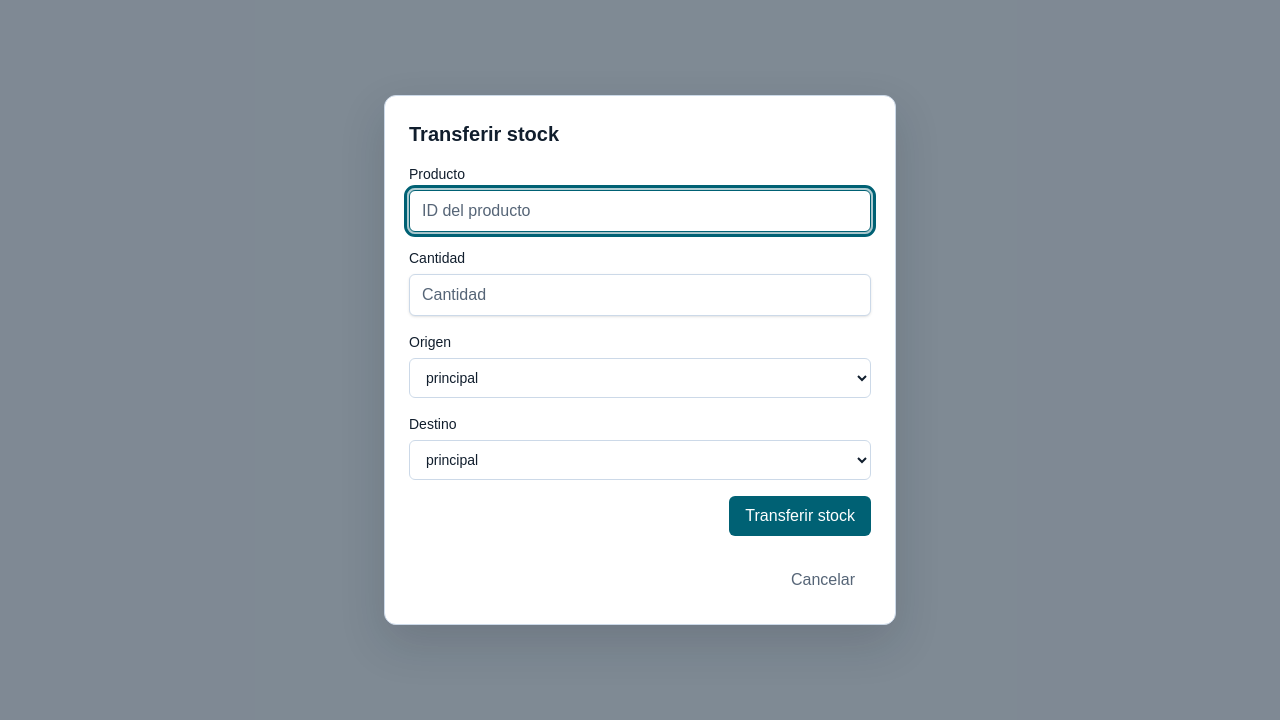
Test: StockTransferModal › rejects same-deposito with domain validation before posting
Type "p_1" into the field labelled "Producto".
click(640, 211); type("p_1")  # box [409,190,871,232]
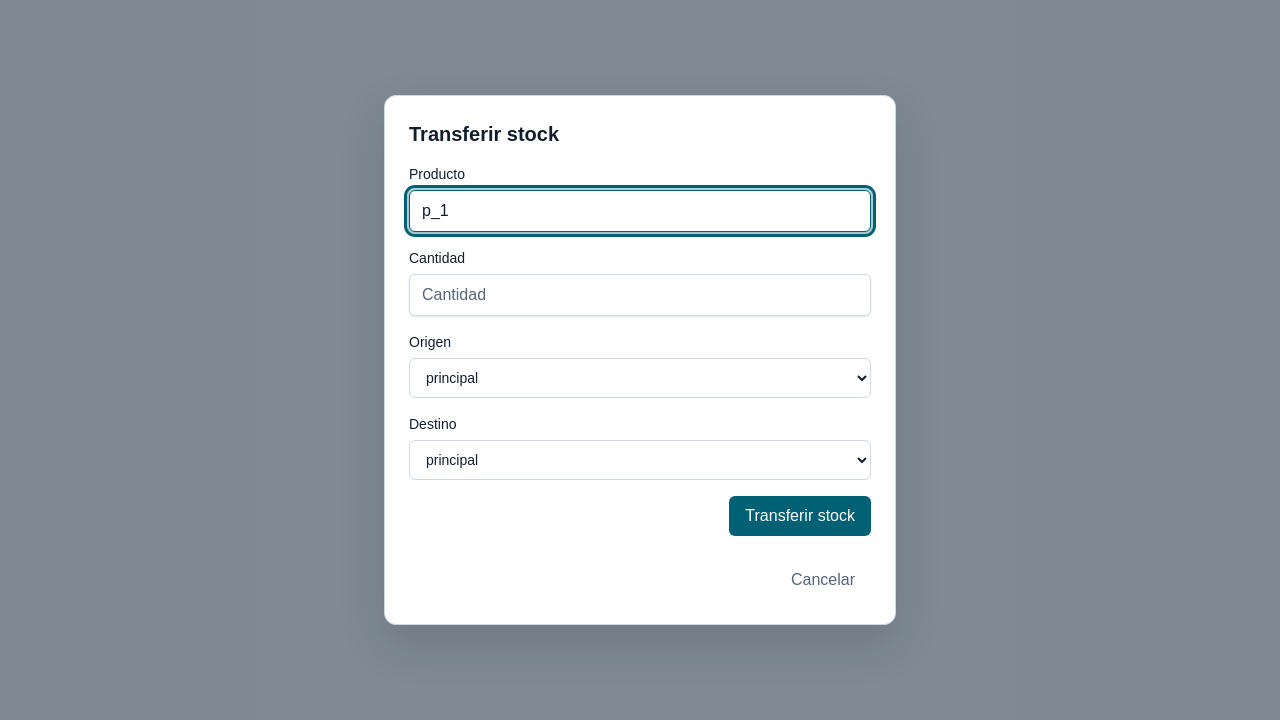
Type "2" into the number field labelled "Cantidad".
click(640, 295); type("2")  # box [409,274,871,316]
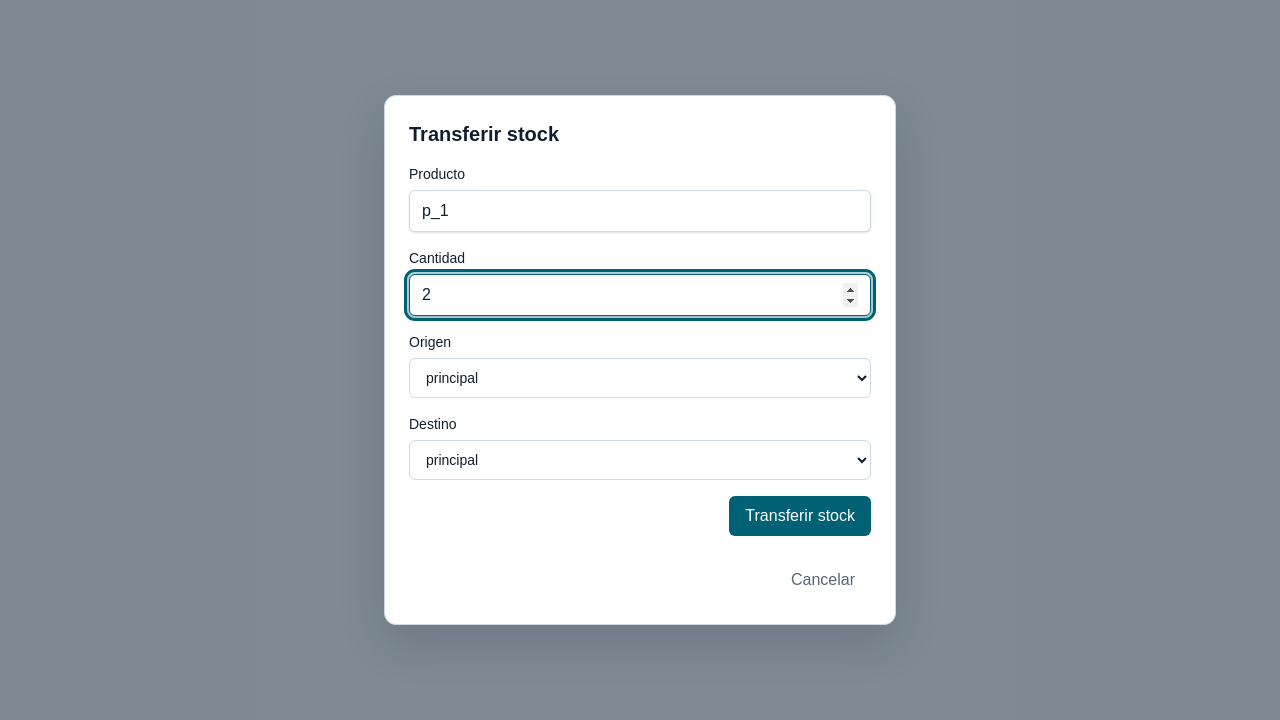
Click the button "Transferir stock".
click(800, 516)  # box [729,496,871,536]
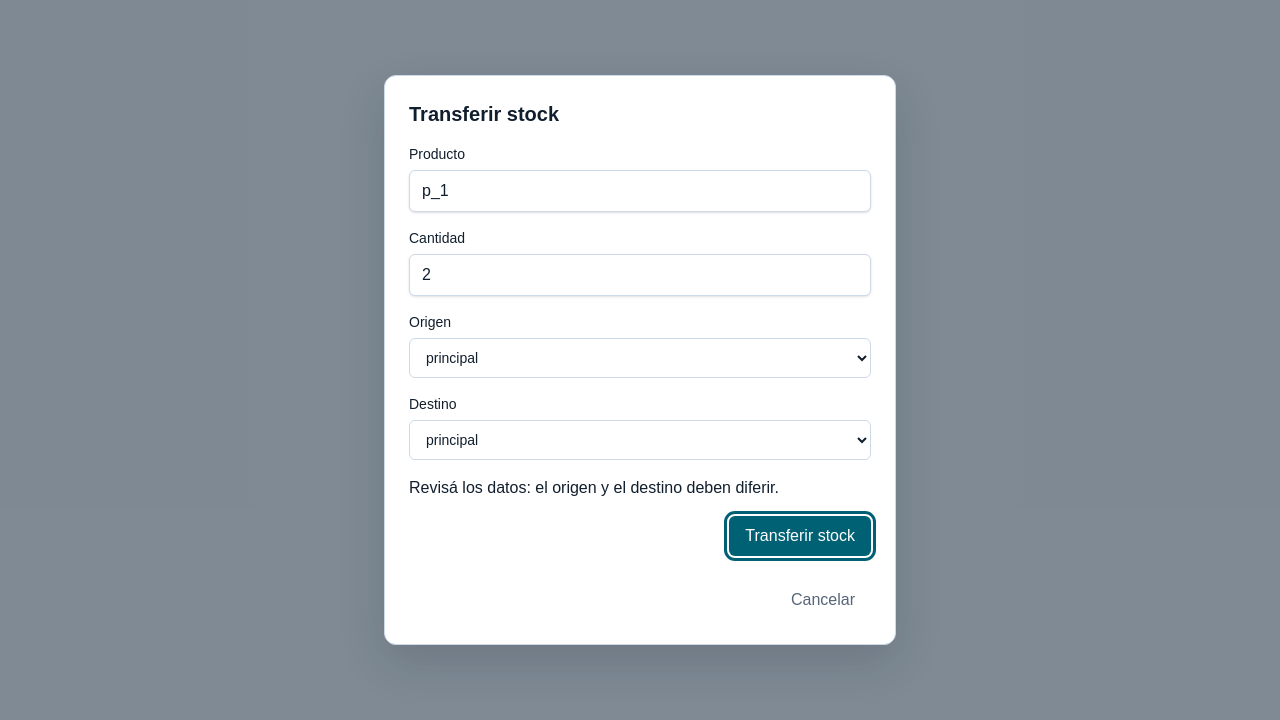
Result: the message "Revisá los datos: el origen y el destino deben diferir." is shown at [409,479,779,496]
